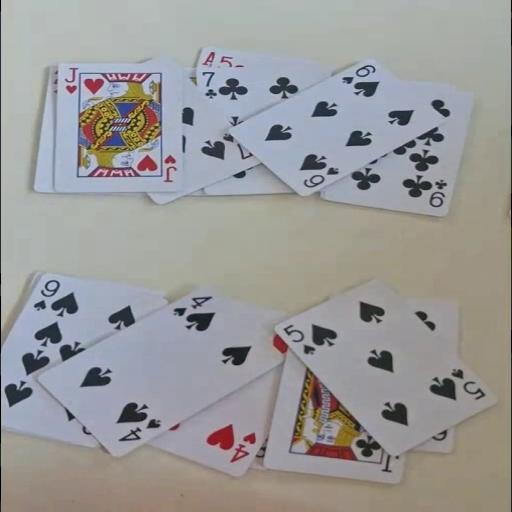4: (115, 416, 163, 443), (227, 430, 258, 464), (169, 294, 214, 317)
5: (447, 366, 488, 401), (280, 322, 318, 356)
6: (300, 165, 341, 189), (339, 62, 377, 85)
7: (219, 131, 256, 161)
9: (30, 276, 61, 312), (427, 177, 449, 208)
J: (162, 152, 178, 183), (62, 66, 78, 95)
